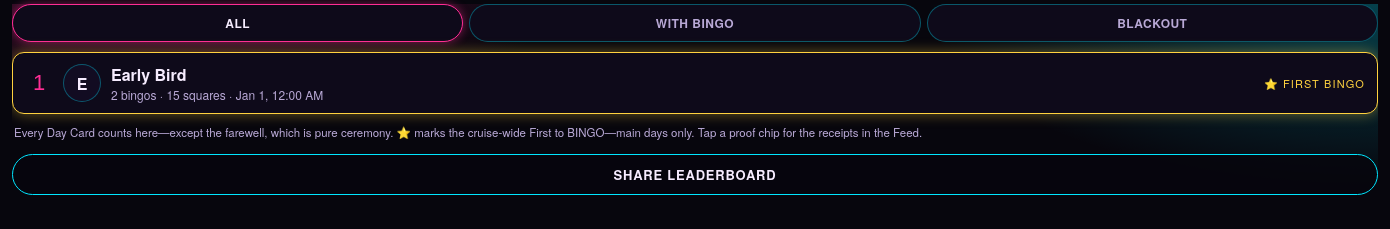
Test case: Leaderboard — filters narrow the visible subset without reordering › shows an empty-filter state (not the global empty state) when no Player matches the filter
Click the button "Blackout" at (1152, 23), box [927,4,1378,42]
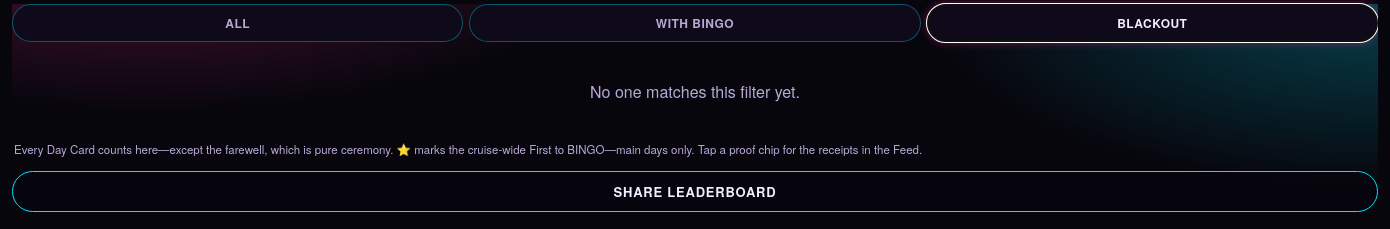
Expected: the button "All" is shown, [12,4,463,42]
Expected: the text "No one matches this filter yet." is shown, [590,80,800,103]
